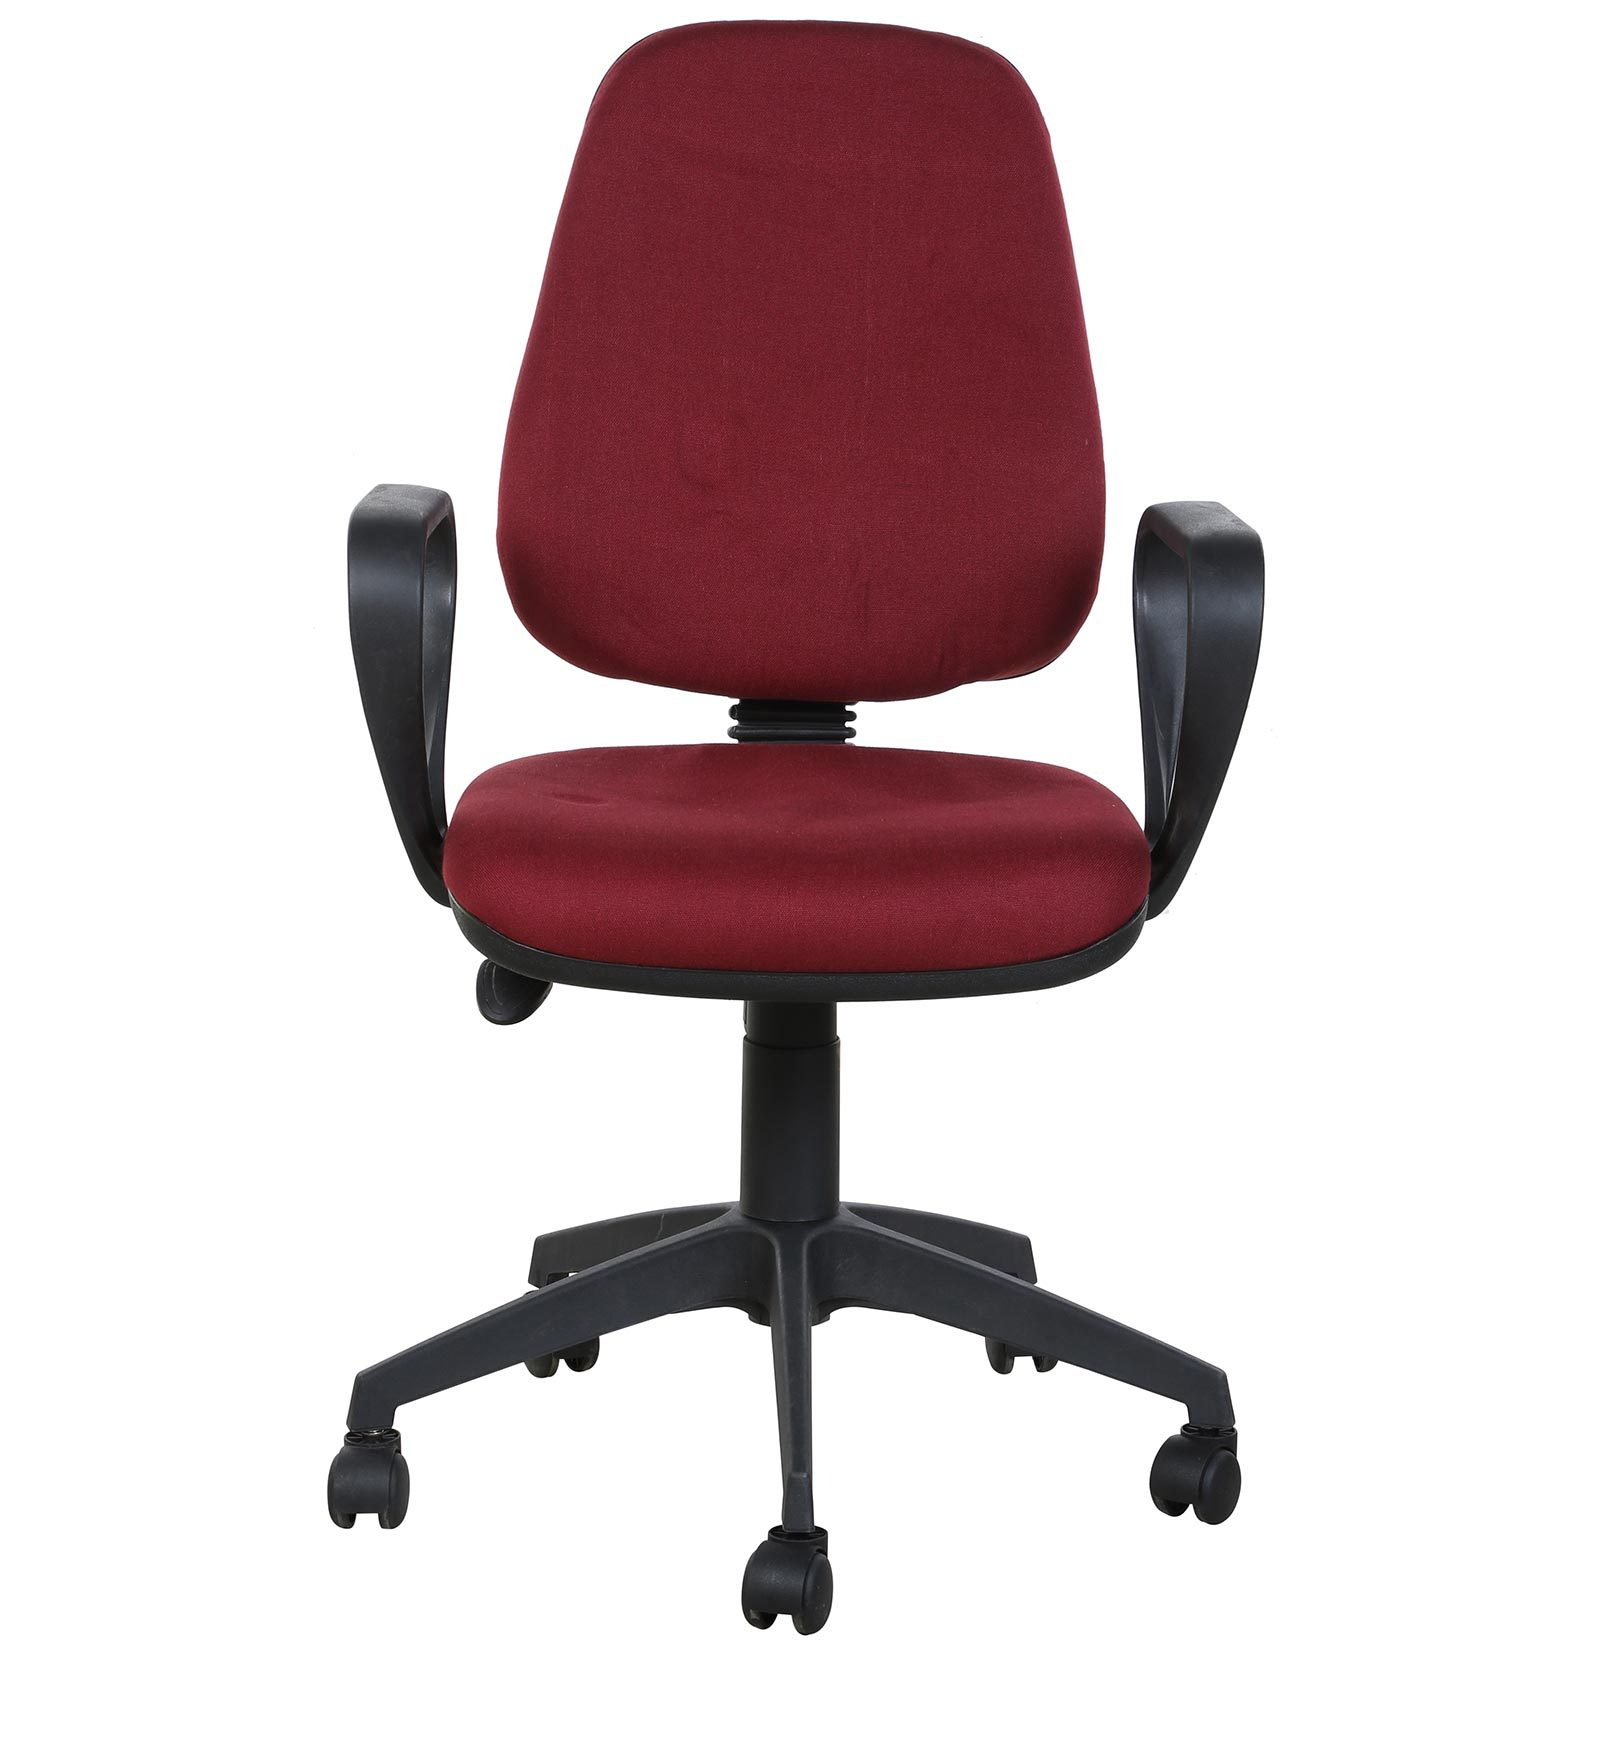Star Ergonomic Chair in Maroon Colour by Parin: (264, 18, 1332, 1731)
